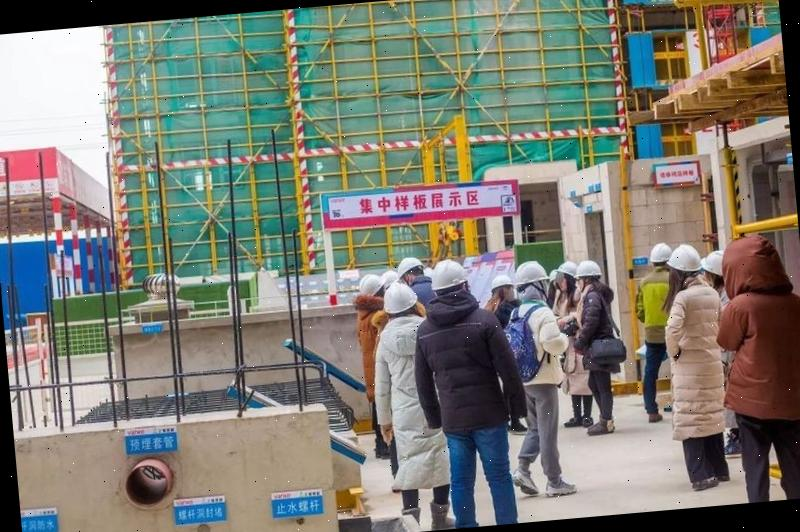helmet: (428, 255, 473, 295), (665, 242, 704, 278), (508, 257, 550, 290), (552, 258, 602, 282), (699, 246, 731, 278), (384, 283, 417, 314), (646, 240, 672, 267), (356, 273, 382, 300), (395, 254, 425, 275), (490, 273, 514, 292)
no_wear: (718, 290, 800, 428), (419, 308, 504, 432), (376, 323, 429, 428), (670, 286, 724, 376), (506, 301, 562, 386), (576, 286, 614, 340)
